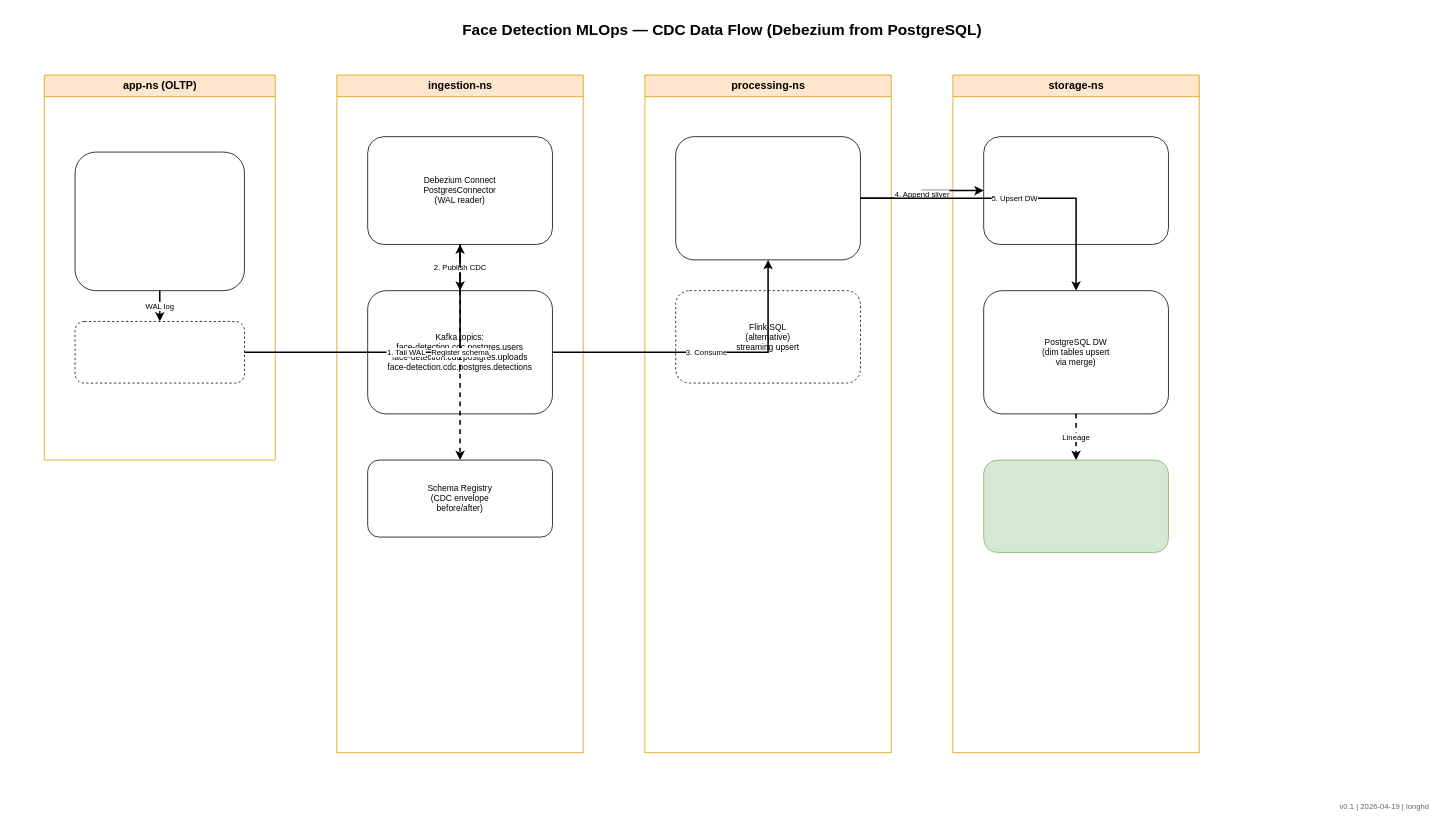
This 1443x827 diagram has some shape labels left out. The shapes that lost their labels are listed below. From the top down, each one's box as (x1, y1, x2, y2) in pixels, then its label:
(675, 136, 860, 260): Spark Streaming • Parse CDC events • Apply upserts • Append to silver
(983, 136, 1168, 244): MinIO Silver s3://processed/cdc/ (append-only log)
(74, 151, 244, 291): PostgreSQL (app) wal_level=logical tables: users, uploads, detections
(74, 321, 244, 383): WAL log (replication slot)
(983, 459, 1168, 552): DataHub (metadata-ns) lineage auto
